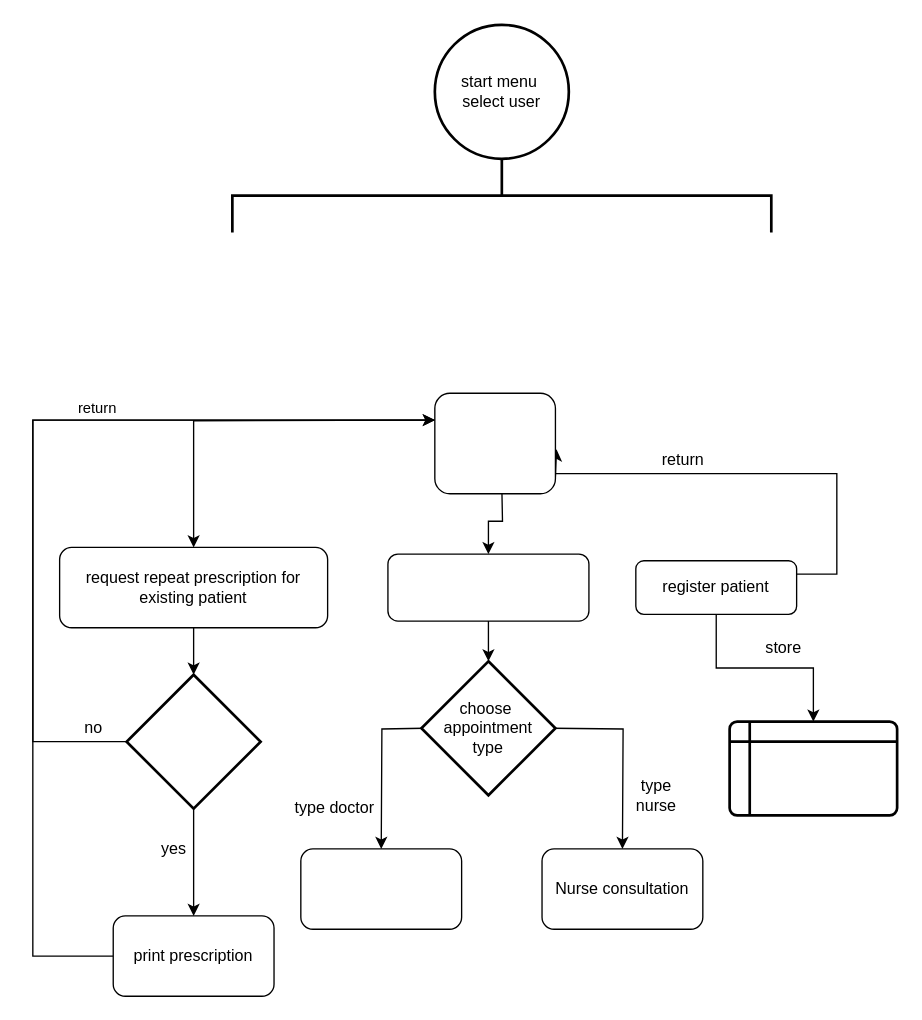
Image size: 922x1020. Some labels were removed from this diagram. Here are the shapes that lost their labels. From the top down, the centre of each, then its label:
At [488,587]: "request appointment for existing patient".
At [193,741]: "check for prescriptions".
At [813,768]: "patient details".
